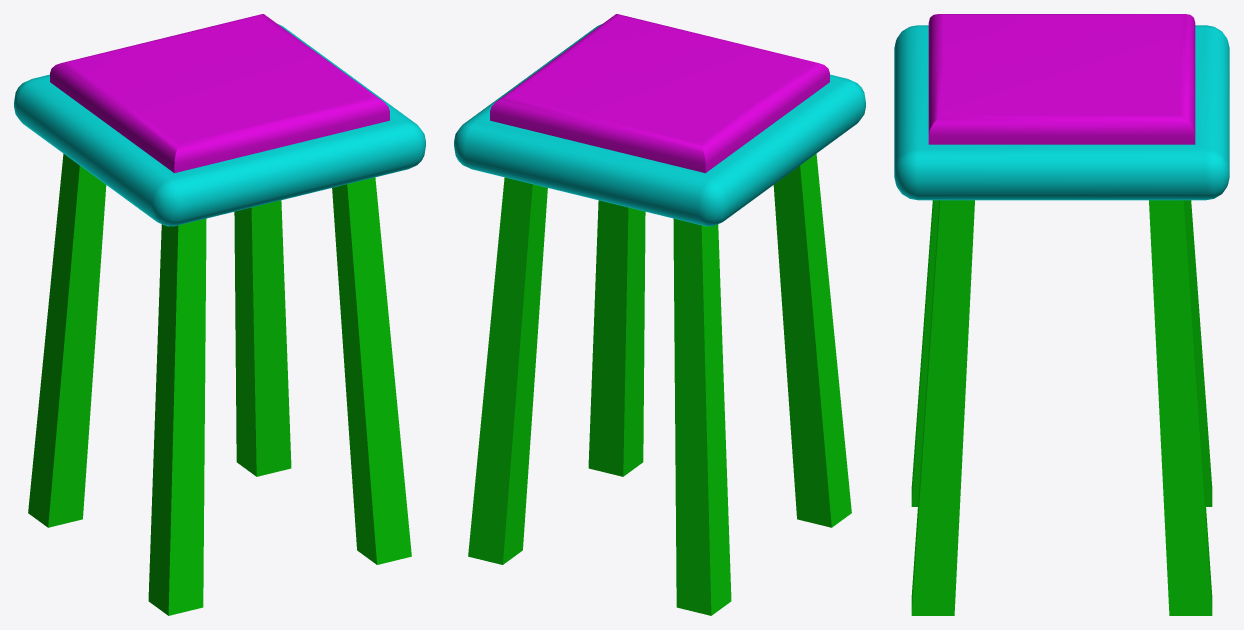
Rendered from kitchen_island_chair.fbx.
3 views of the same model, side by side, from view 1: azimuth 30°, elevation 25°; view 2: azimuth 150°, elevation 25°; view 3: azimuth 270°, elevation 25° (orthographic). The views are drawn at different scales.
Parts seen in each view (by area): view 1: kitchen_island_chair; view 2: kitchen_island_chair; view 3: kitchen_island_chair.
Part boxes in pixels (x1,y1,x2,y2): kitchen_island_chair: (14,14,425,615); kitchen_island_chair: (454,14,865,615); kitchen_island_chair: (894,14,1229,615).
Bounding box in the file's own units: 3.69 × 5.91 × 3.69.
